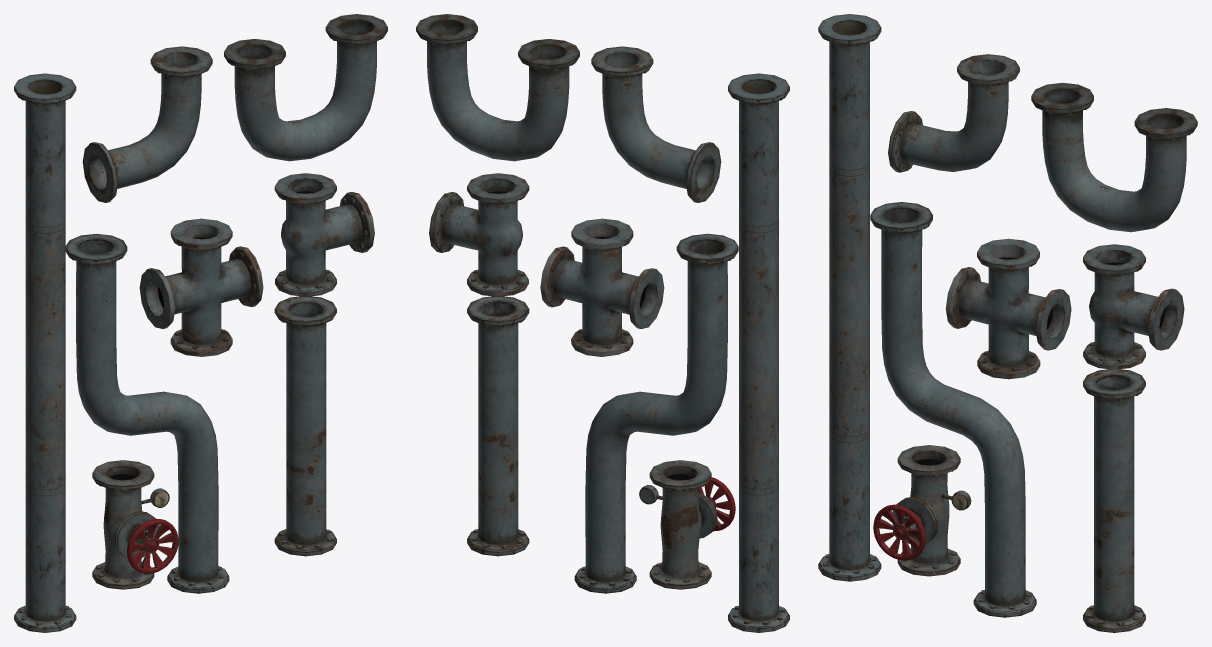
Rendered from modular_industrial_pipes_01_1k.fbx.
The picture shows the model from 3 angles, left to right: view 1: azimuth 30°, elevation 25°; view 2: azimuth 150°, elevation 25°; view 3: azimuth 330°, elevation 25°; orthographic projection.
Parts seen in each view (by area): view 1: modular_industrial_pipes_01_pipe02, modular_industrial_pipes_01_pipe03, modular_industrial_pipes_01_pipe05, modular_industrial_pipes_01_pipe01, modular_industrial_pipes_01_pipe07, modular_industrial_pipes_01_pipe04, modular_industrial_pipes_01_pipe06, modular_industrial_pipes_01_pipe08; view 2: modular_industrial_pipes_01_pipe02, modular_industrial_pipes_01_pipe03, modular_industrial_pipes_01_pipe05, modular_industrial_pipes_01_pipe01, modular_industrial_pipes_01_pipe07, modular_industrial_pipes_01_pipe04, modular_industrial_pipes_01_pipe06, modular_industrial_pipes_01_pipe08; view 3: modular_industrial_pipes_01_pipe02, modular_industrial_pipes_01_pipe03, modular_industrial_pipes_01_pipe05, modular_industrial_pipes_01_pipe01, modular_industrial_pipes_01_pipe07, modular_industrial_pipes_01_pipe06, modular_industrial_pipes_01_pipe04, modular_industrial_pipes_01_pipe08.
Part boxes in pixels (x1=…): modular_industrial_pipes_01_pipe02: x1=14, y1=73, x2=76, y2=632; modular_industrial_pipes_01_pipe03: x1=65, y1=233, x2=229, y2=593; modular_industrial_pipes_01_pipe05: x1=224, y1=14, x2=387, y2=161; modular_industrial_pipes_01_pipe01: x1=274, y1=296, x2=336, y2=556; modular_industrial_pipes_01_pipe07: x1=139, y1=218, x2=263, y2=356; modular_industrial_pipes_01_pipe04: x1=82, y1=46, x2=212, y2=202; modular_industrial_pipes_01_pipe06: x1=274, y1=173, x2=374, y2=296; modular_industrial_pipes_01_pipe08: x1=92, y1=460, x2=178, y2=589; modular_industrial_pipes_01_pipe02: x1=728, y1=73, x2=789, y2=632; modular_industrial_pipes_01_pipe03: x1=574, y1=233, x2=738, y2=593; modular_industrial_pipes_01_pipe05: x1=416, y1=14, x2=579, y2=161; modular_industrial_pipes_01_pipe01: x1=467, y1=296, x2=529, y2=556; modular_industrial_pipes_01_pipe07: x1=540, y1=218, x2=664, y2=356; modular_industrial_pipes_01_pipe04: x1=591, y1=46, x2=721, y2=202; modular_industrial_pipes_01_pipe06: x1=429, y1=173, x2=529, y2=296; modular_industrial_pipes_01_pipe08: x1=639, y1=460, x2=735, y2=589; modular_industrial_pipes_01_pipe02: x1=818, y1=14, x2=881, y2=581; modular_industrial_pipes_01_pipe03: x1=870, y1=202, x2=1036, y2=617; modular_industrial_pipes_01_pipe05: x1=1031, y1=82, x2=1197, y2=232; modular_industrial_pipes_01_pipe01: x1=1083, y1=369, x2=1145, y2=632; modular_industrial_pipes_01_pipe07: x1=945, y1=238, x2=1071, y2=379; modular_industrial_pipes_01_pipe06: x1=1083, y1=244, x2=1184, y2=369; modular_industrial_pipes_01_pipe04: x1=888, y1=54, x2=1019, y2=172; modular_industrial_pipes_01_pipe08: x1=873, y1=445, x2=971, y2=576.
Bounding box in the file's own units: 1.4 × 1.95 × 0.3076.
